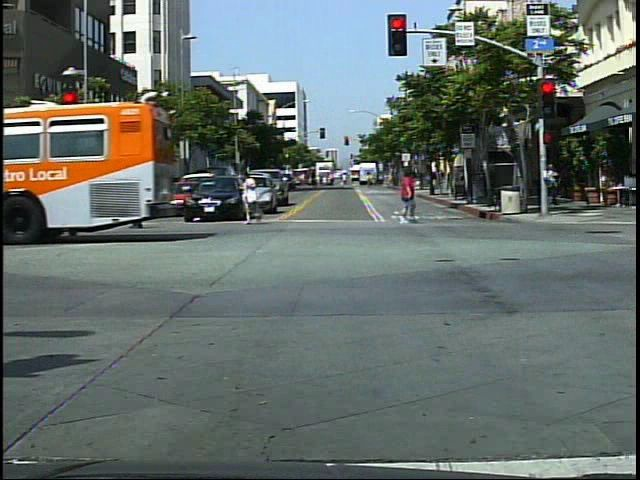person: (238, 166, 270, 230), (125, 170, 155, 236), (394, 166, 424, 230), (546, 162, 568, 213)
